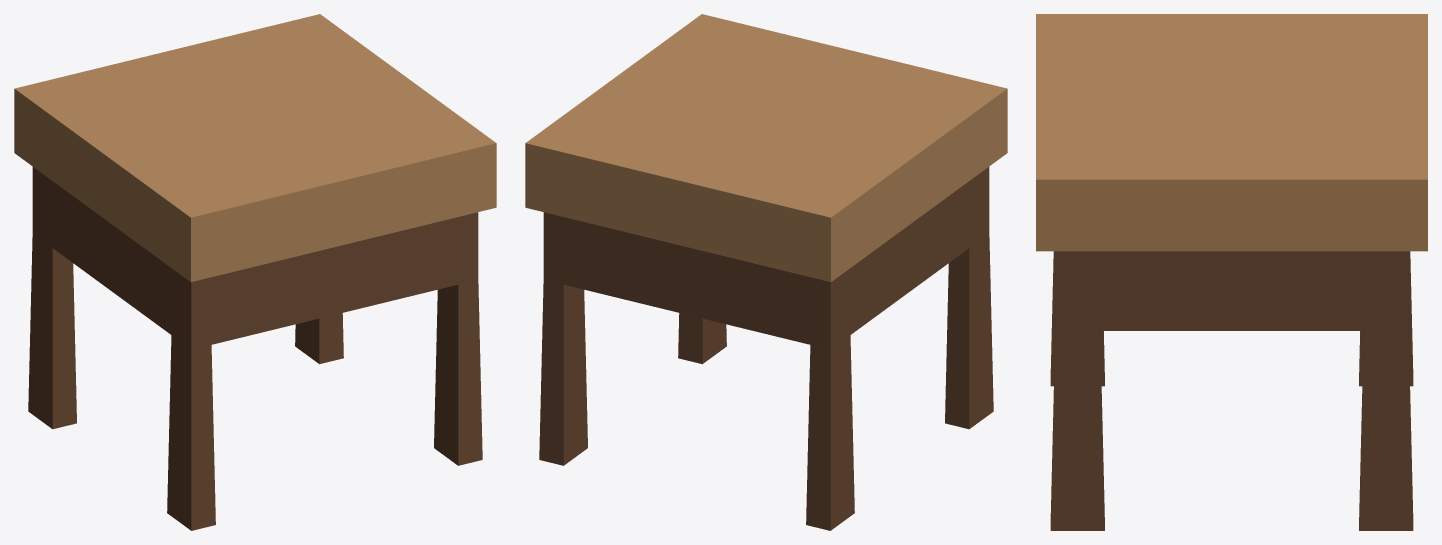
Rendered from qt-coffee-table.glb.
3 renders of one model, left to right at view 1: azimuth 30°, elevation 25°; view 2: azimuth 150°, elevation 25°; view 3: azimuth 270°, elevation 25°, orthographic. The views are drawn at different scales.
Parts seen in each view (by area): view 1: Coffee_Table_Cube.006; view 2: Coffee_Table_Cube.006; view 3: Coffee_Table_Cube.006.
Part boxes in pixels (box(x1,y1,x2,y2)): Coffee_Table_Cube.006: box(14, 14, 496, 530); Coffee_Table_Cube.006: box(525, 14, 1007, 530); Coffee_Table_Cube.006: box(1036, 14, 1427, 530).
Bounding box in the file's own units: 1 × 1 × 1.
